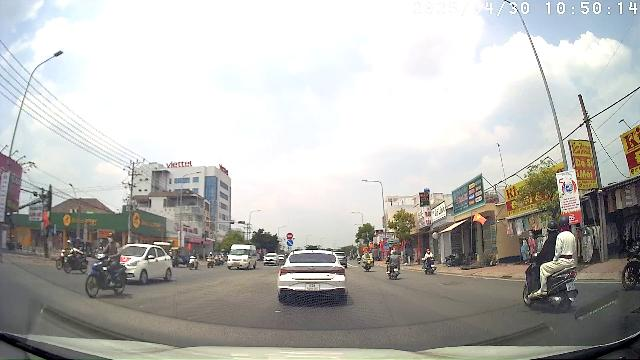102-cam-di-nguoc-chieu: (286, 232, 293, 239)
302a-huong-phai-di-vong-chuong-ngai-vat-1: (287, 240, 293, 246)
